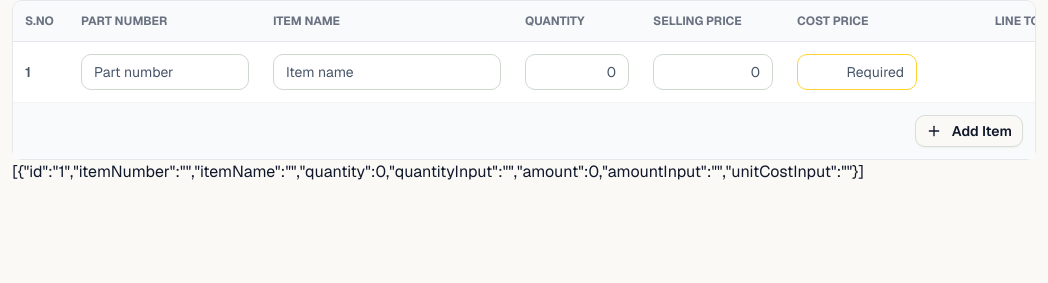
Test: InvoiceItemsEditor › autofills item name by selecting an inventory suggestion with the keyboard
Type "BP" into the field named "Row 1 part number".
click(165, 72); type("BP")  # box [81, 54, 249, 90]
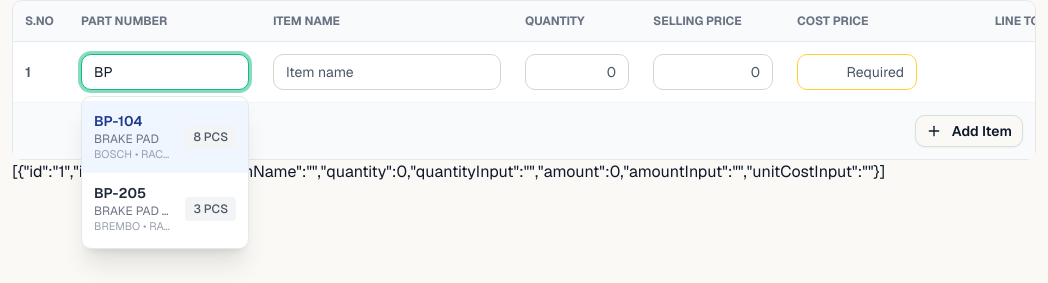
Now the text "BP-104" is shown, box [94, 112, 142, 130]
Press Enter
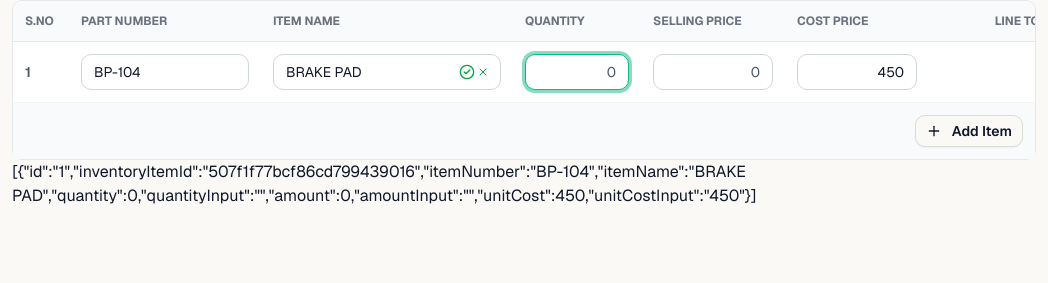
Now the field named "Row 1 item name" holds "BRAKE PAD", box [273, 54, 501, 90]
